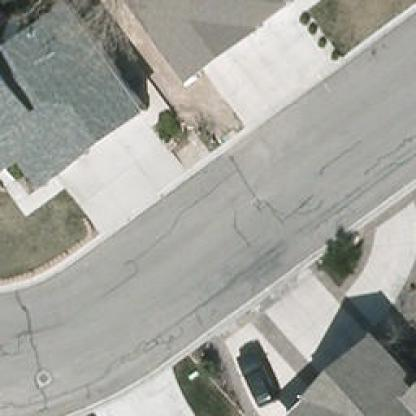car: (234, 346, 275, 405)
